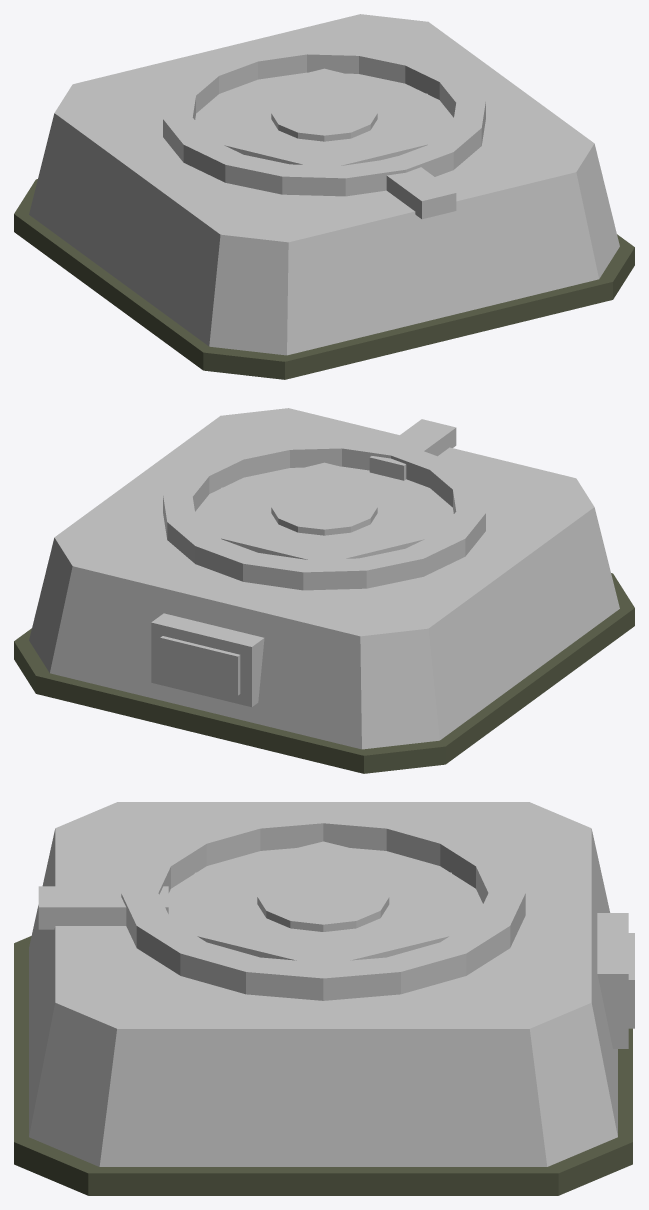
Rendered from cerebrex_stabilizer.obj.
3 views of the same model, one above another, from view 1: azimuth 30°, elevation 25°; view 2: azimuth 150°, elevation 25°; view 3: azimuth 270°, elevation 25° (orthographic). The views are drawn at different scales.
Visible parts, largest first — view 1: cerebrex_stabilizer_1, cerebrex_stabilizer_2, cerebrex_stabilizer_0, cerebrex_stabilizer_3, cerebrex_stabilizer_4, cerebrex_stabilizer_5; view 2: cerebrex_stabilizer_1, cerebrex_stabilizer_2, cerebrex_stabilizer_0, cerebrex_stabilizer_3, cerebrex_stabilizer_6, cerebrex_stabilizer_4, cerebrex_stabilizer_7, cerebrex_stabilizer_5; view 3: cerebrex_stabilizer_1, cerebrex_stabilizer_2, cerebrex_stabilizer_0, cerebrex_stabilizer_3, cerebrex_stabilizer_4, cerebrex_stabilizer_6, cerebrex_stabilizer_5, cerebrex_stabilizer_7.
Boxes of the visible parts, <box> form: cerebrex_stabilizer_1: <box>29,14,619,355</box>; cerebrex_stabilizer_2: <box>163,42,485,196</box>; cerebrex_stabilizer_0: <box>14,179,634,379</box>; cerebrex_stabilizer_3: <box>221,68,427,165</box>; cerebrex_stabilizer_4: <box>271,90,377,141</box>; cerebrex_stabilizer_5: <box>381,156,456,219</box>; cerebrex_stabilizer_1: <box>29,408,619,749</box>; cerebrex_stabilizer_2: <box>163,436,485,590</box>; cerebrex_stabilizer_0: <box>14,573,634,773</box>; cerebrex_stabilizer_3: <box>221,462,427,559</box>; cerebrex_stabilizer_6: <box>151,613,264,707</box>; cerebrex_stabilizer_4: <box>271,484,377,535</box>; cerebrex_stabilizer_7: <box>160,636,240,695</box>; cerebrex_stabilizer_5: <box>369,419,456,480</box>; cerebrex_stabilizer_1: <box>29,802,617,1166</box>; cerebrex_stabilizer_2: <box>121,807,525,1000</box>; cerebrex_stabilizer_0: <box>14,936,632,1195</box>; cerebrex_stabilizer_3: <box>194,841,451,962</box>; cerebrex_stabilizer_4: <box>257,869,389,931</box>; cerebrex_stabilizer_6: <box>597,913,628,1048</box>; cerebrex_stabilizer_5: <box>38,886,168,929</box>; cerebrex_stabilizer_7: <box>628,933,634,1028</box>.
Size of the model in its own units: 3 by 0.92 by 3.01.
